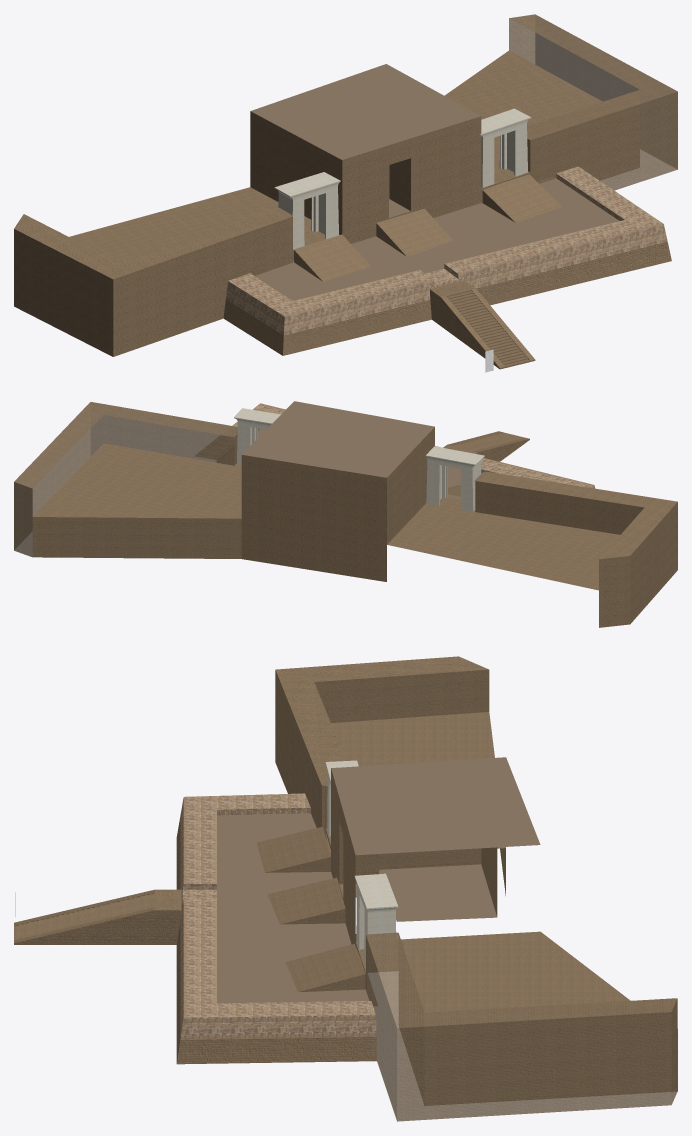
The model's file is SAN.glb.
3 renders of one model, top to bottom at view 1: azimuth 30°, elevation 25°; view 2: azimuth 150°, elevation 25°; view 3: azimuth 270°, elevation 25°, orthographic. The views are drawn at different scales.
Visible parts, largest first — view 1: Mesh7 Model, Mesh3 Component_2_1 Model, Mesh2 Gate2_1_1 Model, Mesh1 Gate2_1 Model, Mesh5 Component_3_2 Model, Mesh6 Component_3_3 Model, Mesh4 Component_3_1 Model; view 2: Mesh7 Model, Mesh2 Gate2_1_1 Model, Mesh3 Component_2_1 Model, Mesh1 Gate2_1 Model; view 3: Mesh7 Model, Mesh3 Component_2_1 Model, Mesh5 Component_3_2 Model, Mesh6 Component_3_3 Model, Mesh4 Component_3_1 Model, Mesh1 Gate2_1 Model.
Boxes of the visible parts, x1=… form: Mesh7 Model: x1=14, y1=14, x2=677, y2=356; Mesh3 Component_2_1 Model: x1=430, y1=280, x2=535, y2=369; Mesh2 Gate2_1_1 Model: x1=274, y1=172, x2=340, y2=249; Mesh1 Gate2_1 Model: x1=480, y1=108, x2=531, y2=187; Mesh5 Component_3_2 Model: x1=482, y1=174, x2=561, y2=222; Mesh6 Component_3_3 Model: x1=376, y1=208, x2=453, y2=256; Mesh4 Component_3_1 Model: x1=294, y1=234, x2=371, y2=281; Mesh7 Model: x1=14, y1=401, x2=677, y2=627; Mesh2 Gate2_1_1 Model: x1=425, y1=446, x2=484, y2=511; Mesh3 Component_2_1 Model: x1=443, y1=431, x2=529, y2=461; Mesh1 Gate2_1 Model: x1=234, y1=408, x2=280, y2=466; Mesh7 Model: x1=176, y1=656, x2=677, y2=1121; Mesh3 Component_2_1 Model: x1=14, y1=889, x2=181, y2=944; Mesh5 Component_3_2 Model: x1=285, y1=944, x2=366, y2=992; Mesh6 Component_3_3 Model: x1=268, y1=877, x2=345, y2=924; Mesh4 Component_3_1 Model: x1=257, y1=826, x2=330, y2=872; Mesh1 Gate2_1 Model: x1=354, y1=873, x2=398, y2=967.
Bounding box in the file's own units: 50.79 × 9 × 38.28.
Materials: 8 (7 with a texture image).
